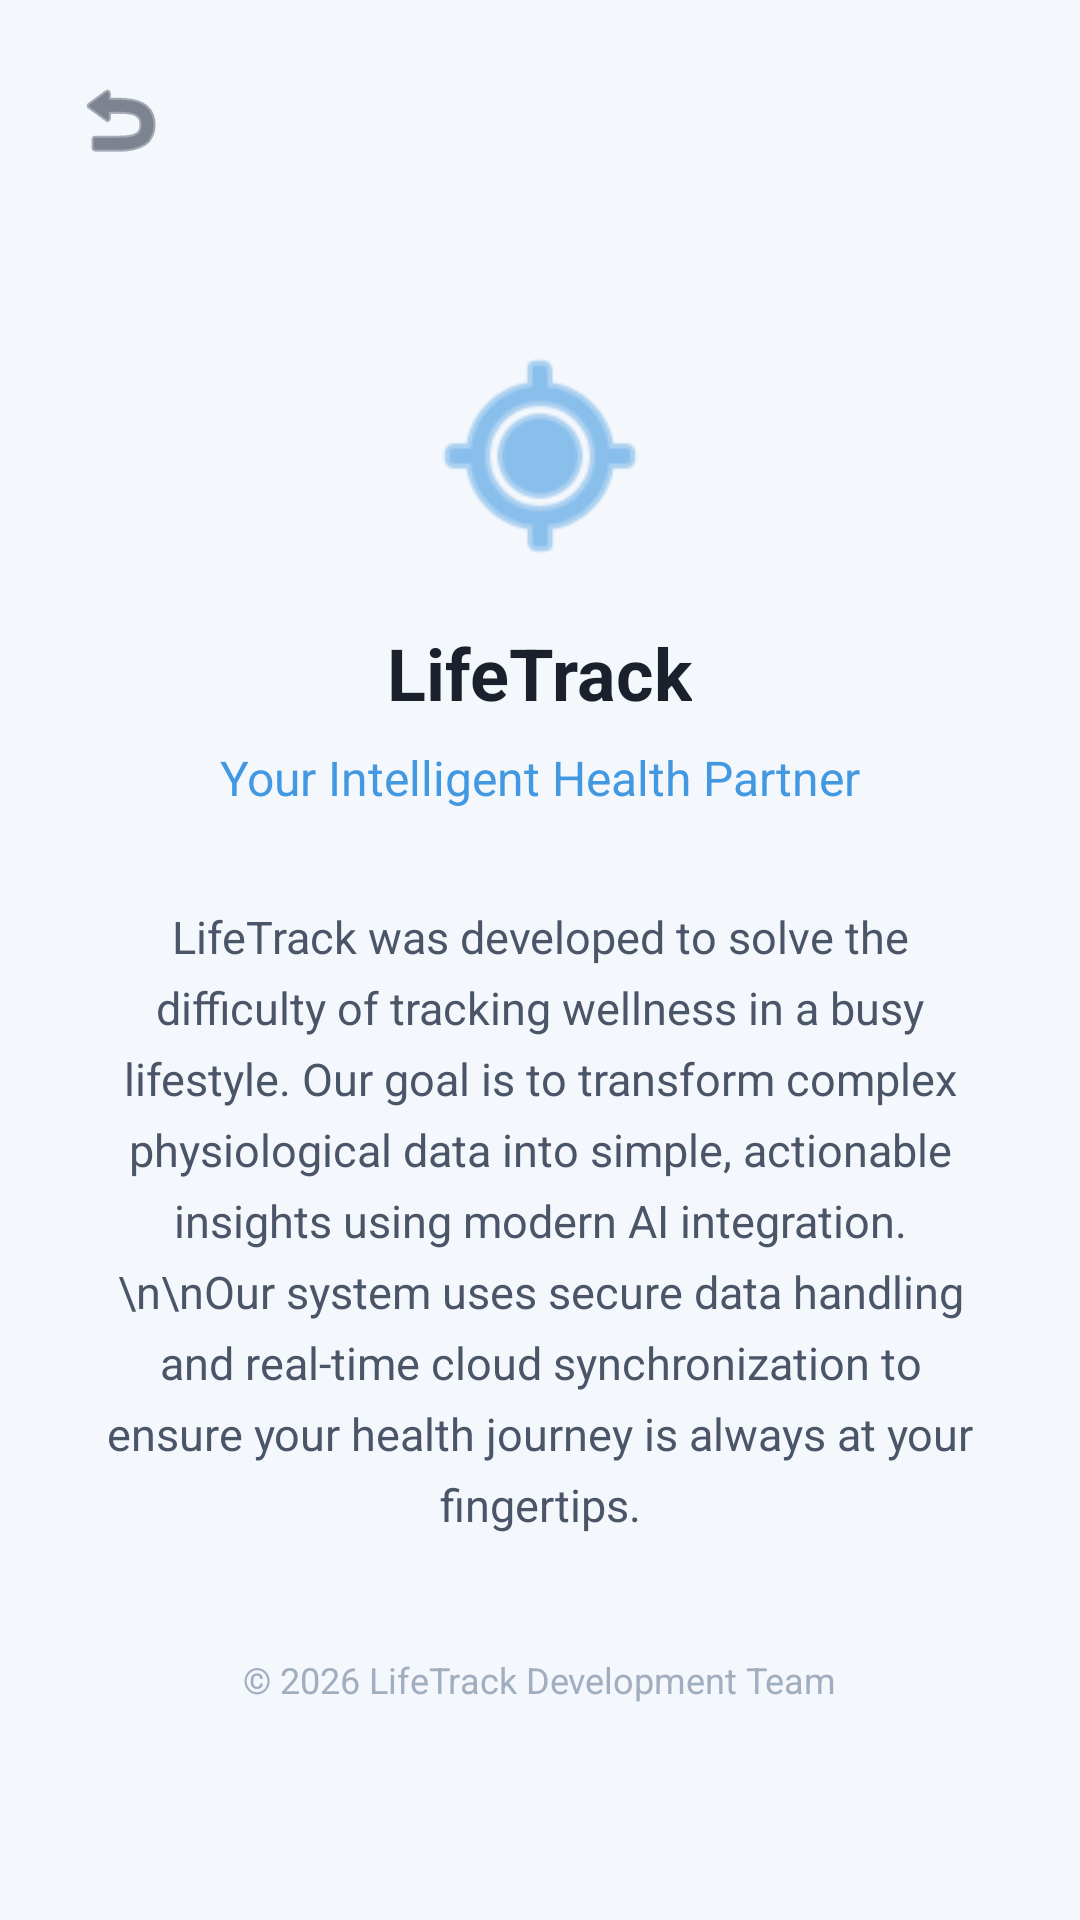

Where to tap for icons on this 1080×1920 app screen, as [x,y]:
mylocation: [540,456]
revert: [121,120]
